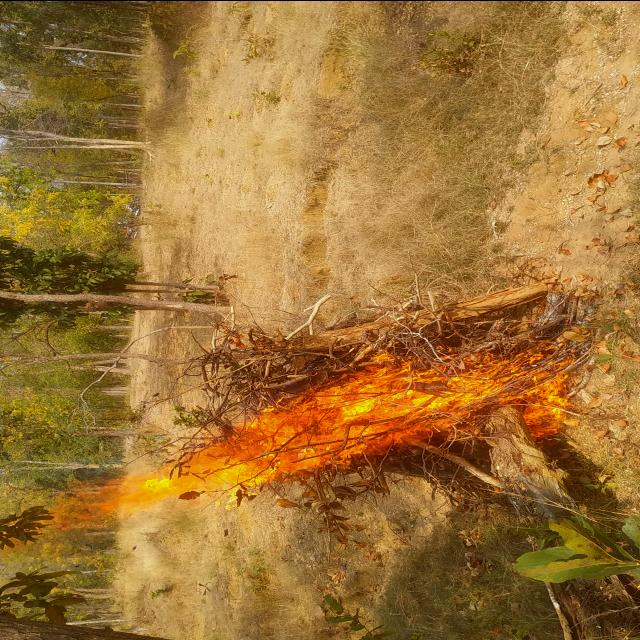firerotation: (0, 350, 571, 547)
